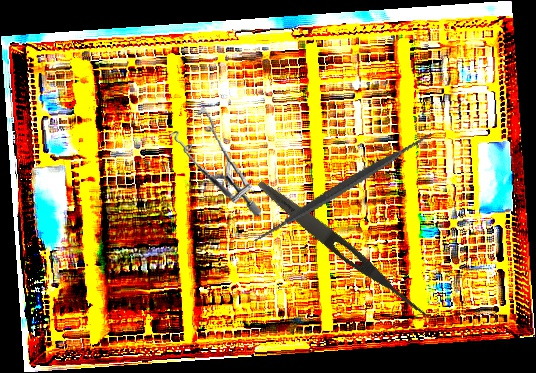Dressing Forceps: (253, 175, 437, 326)
Spatula Surgical: (242, 86, 445, 289)
Speculum: (167, 103, 262, 223)
